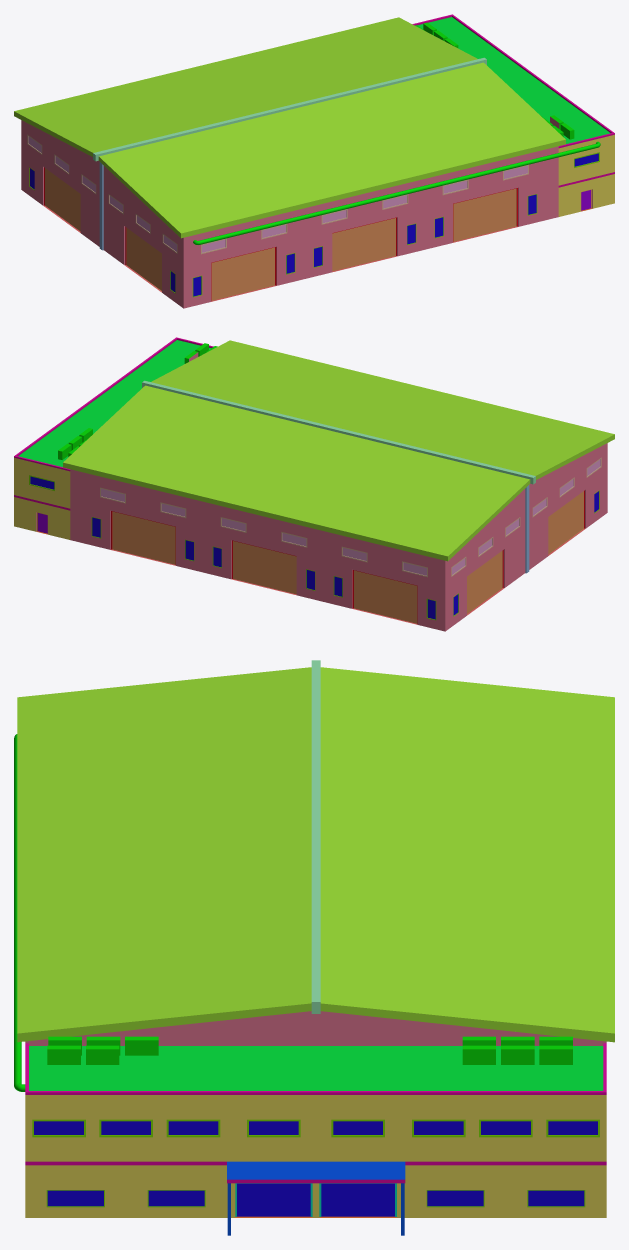
File: warehouse _tri_lp_16-11.fbx
3 views of the same model, one above another, from view 1: azimuth 30°, elevation 25°; view 2: azimuth 150°, elevation 25°; view 3: azimuth 270°, elevation 25° (orthographic). The views are drawn at different scales.
Parts seen in each view (by area): view 1: warehouse_main_tri_lp_with ID; view 2: warehouse_main_tri_lp_with ID; view 3: warehouse_main_tri_lp_with ID.
Boxes of the visible parts, x1,y1,x2,y2 form: warehouse_main_tri_lp_with ID: [14, 14, 614, 308]; warehouse_main_tri_lp_with ID: [14, 337, 614, 631]; warehouse_main_tri_lp_with ID: [14, 660, 614, 1235].
Bounding box in the file's own units: 4906 × 990 × 3102.
